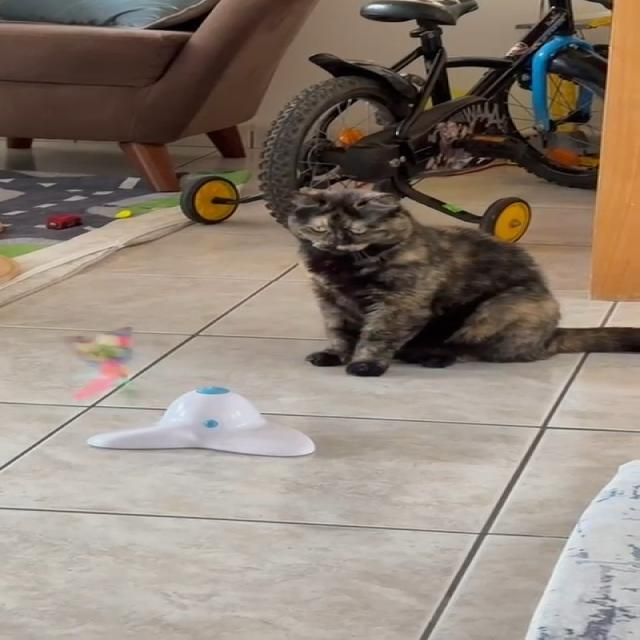authorized: (285, 186, 639, 377)
